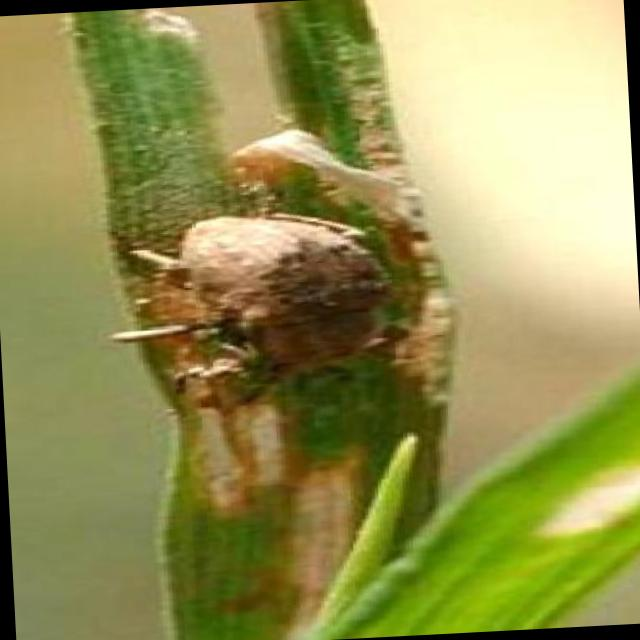rice-bug: (125, 201, 423, 387)
